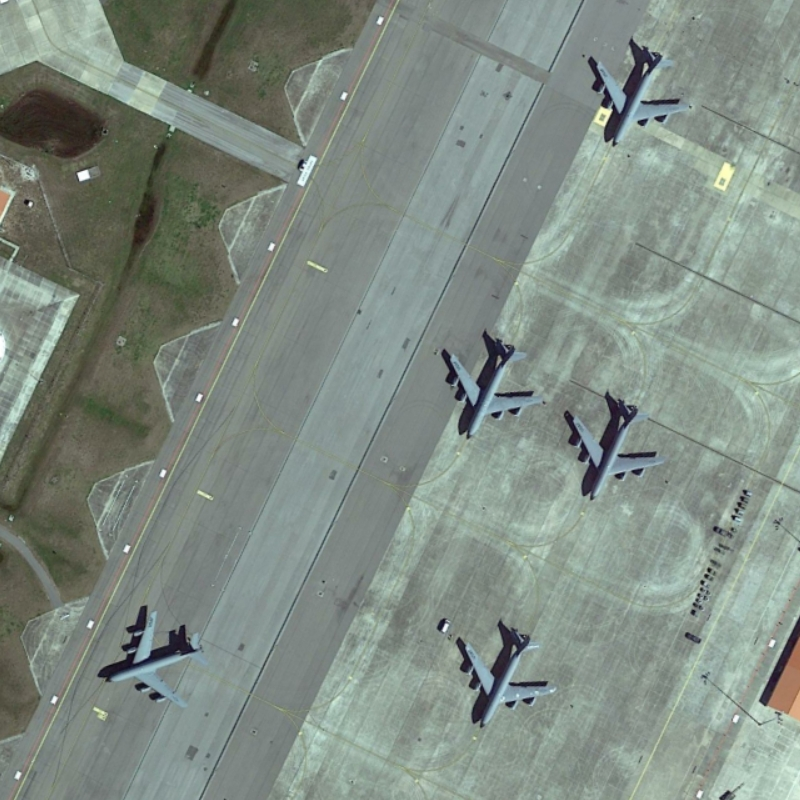A14: (103, 604, 210, 716), (444, 336, 548, 444), (568, 395, 668, 505), (458, 623, 558, 733), (593, 44, 695, 151)
